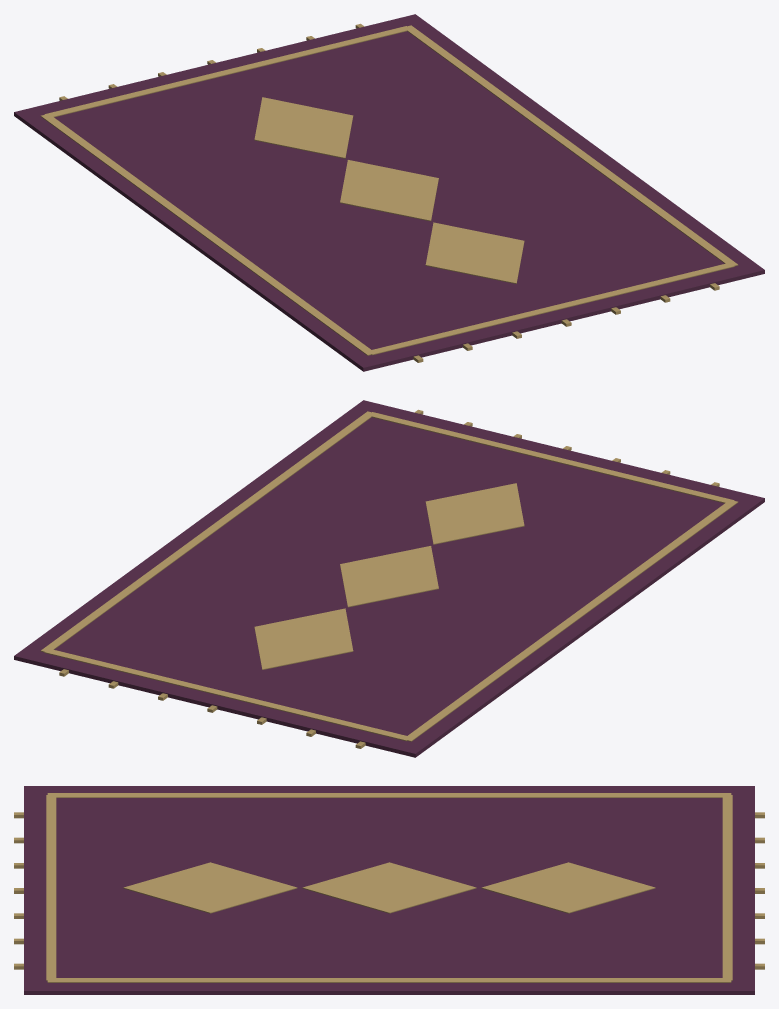
The model's file is rug_gilded.glb.
The picture shows the model from 3 angles, top to bottom: view 1: azimuth 30°, elevation 25°; view 2: azimuth 150°, elevation 25°; view 3: azimuth 270°, elevation 25°; orthographic projection. The views are drawn at different scales.
Visible parts, largest first — view 1: rug_gilded; view 2: rug_gilded; view 3: rug_gilded.
Part boxes in pixels (box(x1,y1,x2,y2)): rug_gilded: box(14, 14, 764, 371); rug_gilded: box(14, 400, 764, 757); rug_gilded: box(14, 786, 764, 994).
Bounding box in the file's own units: 1.95 × 0.022 × 3.02.
